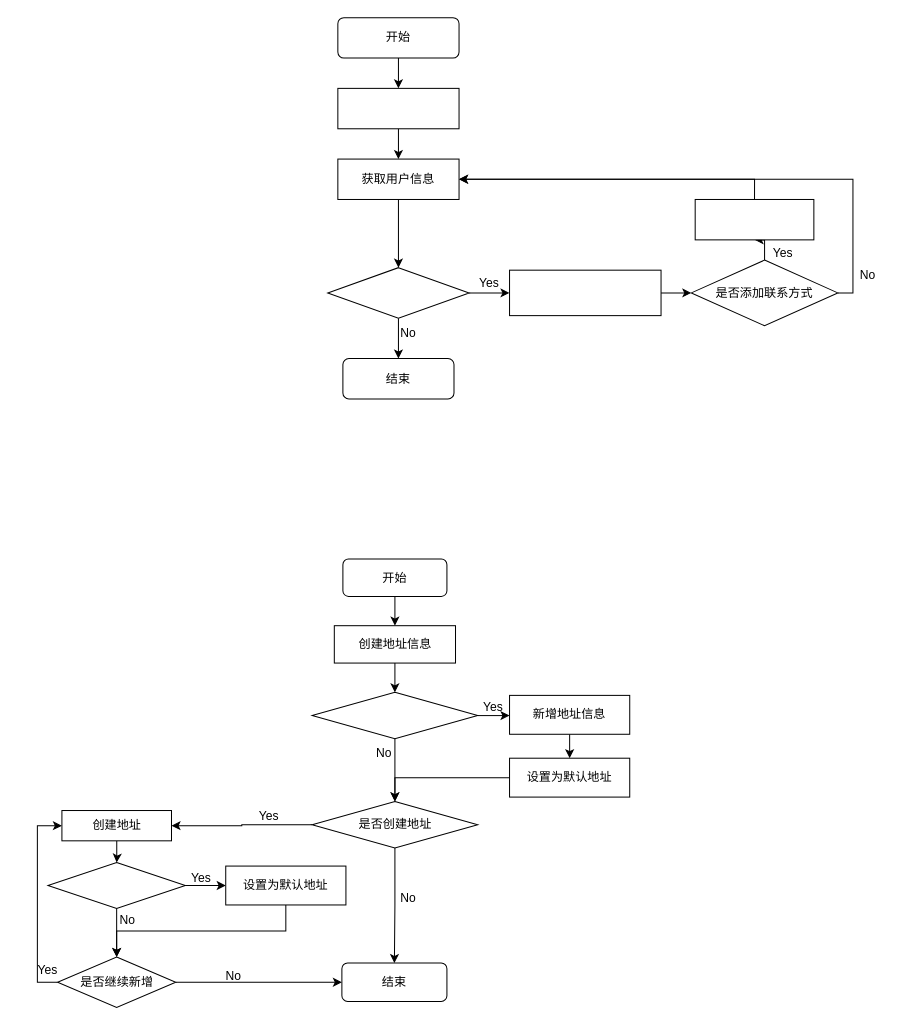
Some shapes in this 915 by 1025 pixel diagram are drawn without their labels. Each missing label, with the centre of its shape:
"地址信息列表是否为空" belongs at (x=394, y=715).
"微信登录成功" belongs at (x=398, y=108).
"是否更改信息" belongs at (x=398, y=292).
"是否设置为默认地址" belongs at (x=116, y=885).
"更改用户的昵称、头像" belongs at (x=585, y=292).
"添加联系方式" belongs at (x=754, y=219).
